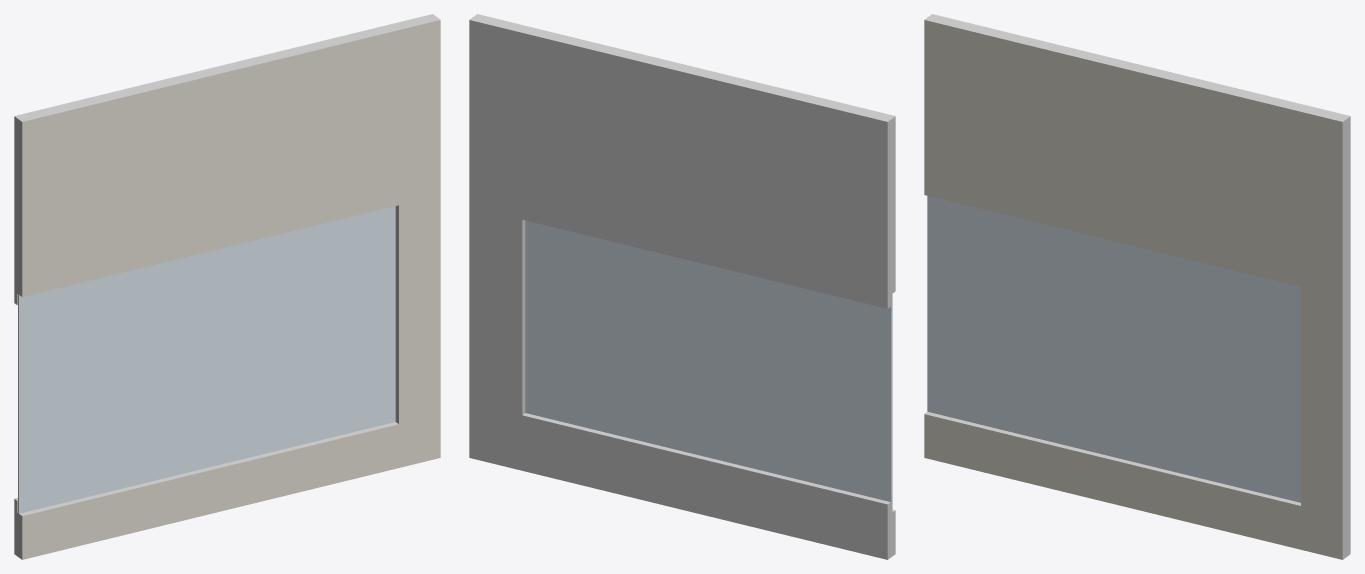
Rendered from ShopGlass_CapRight.fbx.
3 views of the same model, side by side, from view 1: azimuth 30°, elevation 25°; view 2: azimuth 150°, elevation 25°; view 3: azimuth 330°, elevation 25° (orthographic).
Parts seen in each view (by area): view 1: SM_ShopGlass_CapRight; view 2: SM_ShopGlass_CapRight; view 3: SM_ShopGlass_CapRight.
Part boxes in pixels (<box>): SM_ShopGlass_CapRight: <box>14,14,440,559</box>; SM_ShopGlass_CapRight: <box>469,14,895,559</box>; SM_ShopGlass_CapRight: <box>924,14,1350,559</box>.
Bounding box in the file's own units: 3 × 3 × 0.1.
